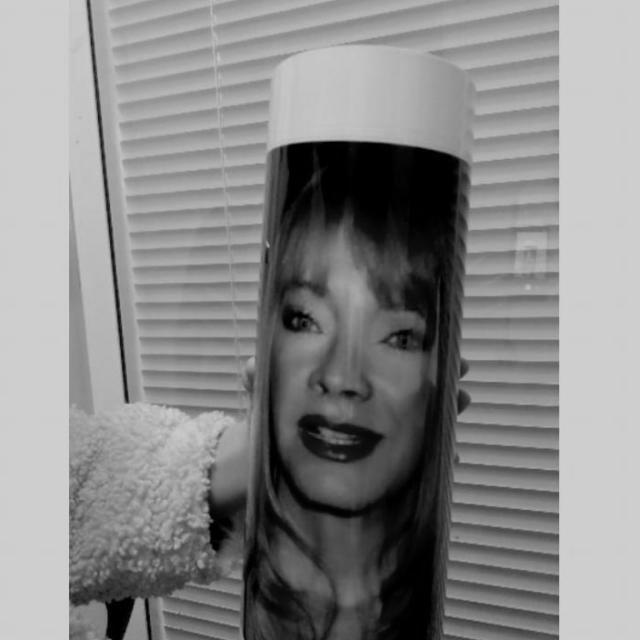fake: (221, 42, 488, 640)
